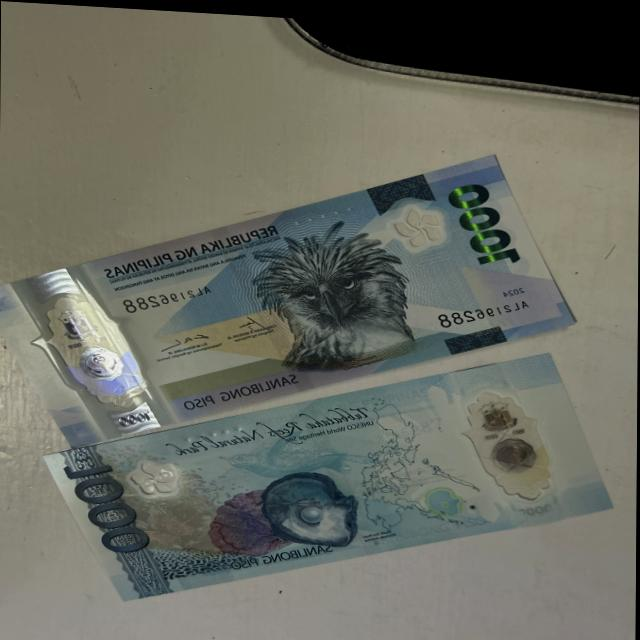clear_window: (40, 285, 148, 412), (454, 372, 551, 503)
eagle: (235, 220, 404, 374)
sampaguita: (394, 193, 445, 250), (130, 458, 175, 500)
serial_number: (104, 278, 219, 314)
value: (30, 458, 177, 556), (449, 163, 522, 268)
